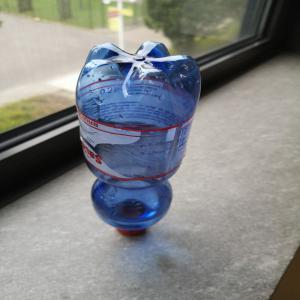Plastic-bottle: (76, 41, 204, 238)
